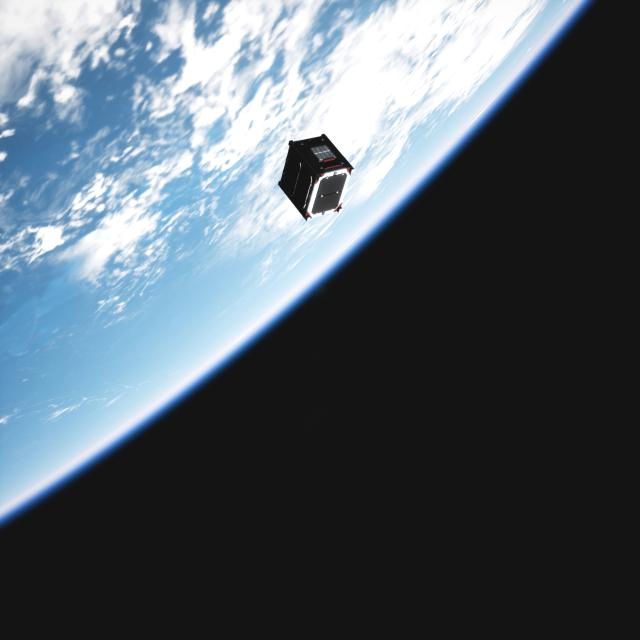satellite: (277, 134, 356, 223)
